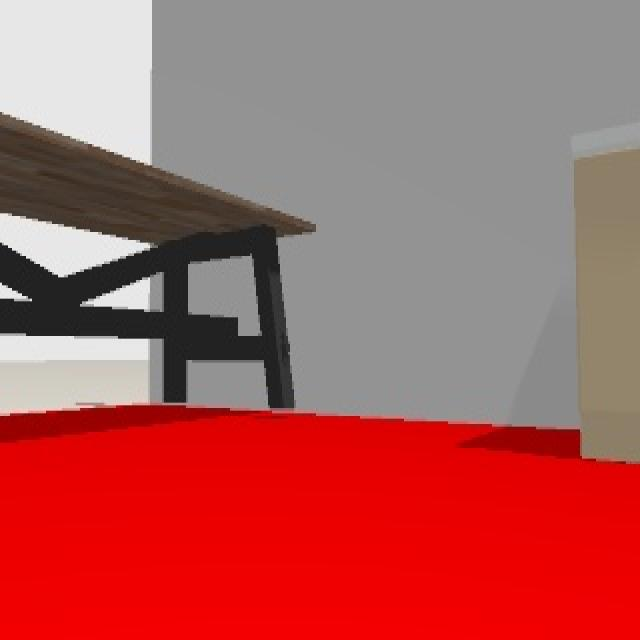dining: (1, 108, 317, 418)
